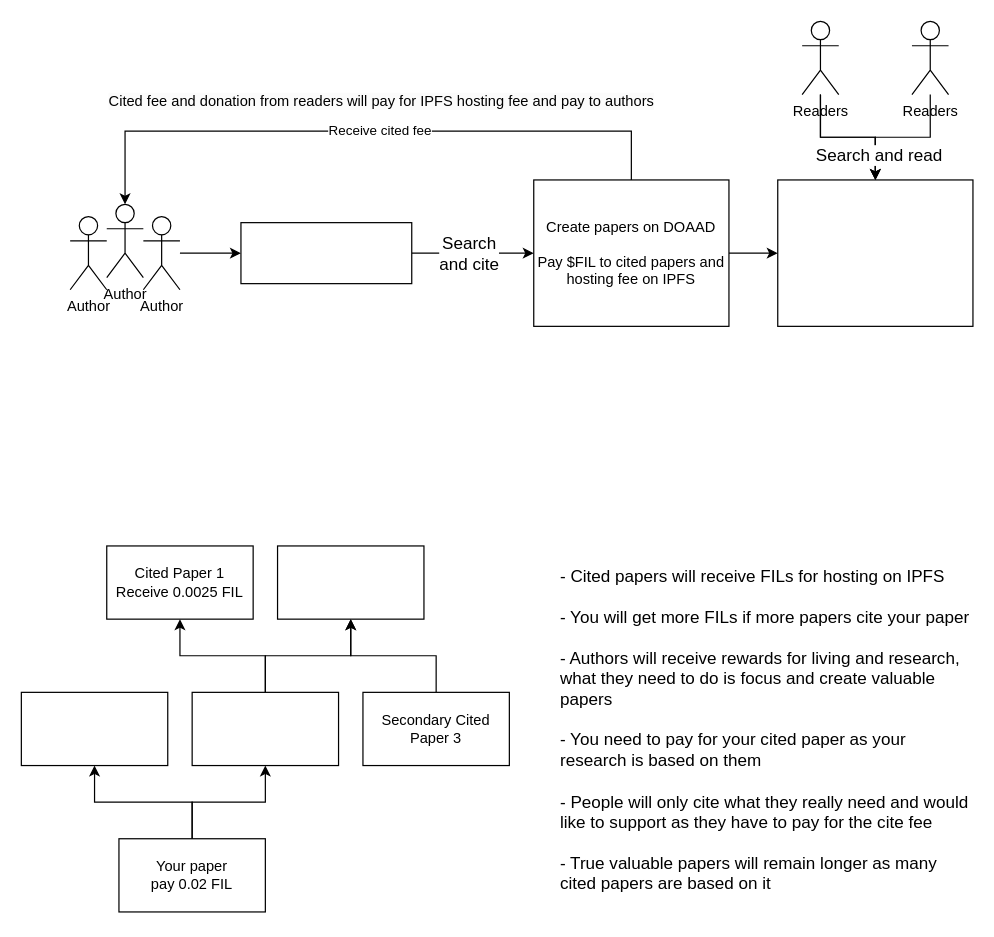
Image size: 994x937. Some labels were removed from this diagram. The centre of each missing label's shape, as x and y in pixels:
"Cited Paper 2 Receive 0.0025 FIL" belongs at point 350,582.
"Create academic profile on DOAAD" belongs at point 326,252.
"Papers are open access on DOAAD Make donation" belongs at point 875,252.
"Secondary Cited Paper 1 Receive 0.01 FIL" belongs at point 94,728.
"Secondary Cited Paper 2 Receive 0.005 FIL" belongs at point 265,728.
